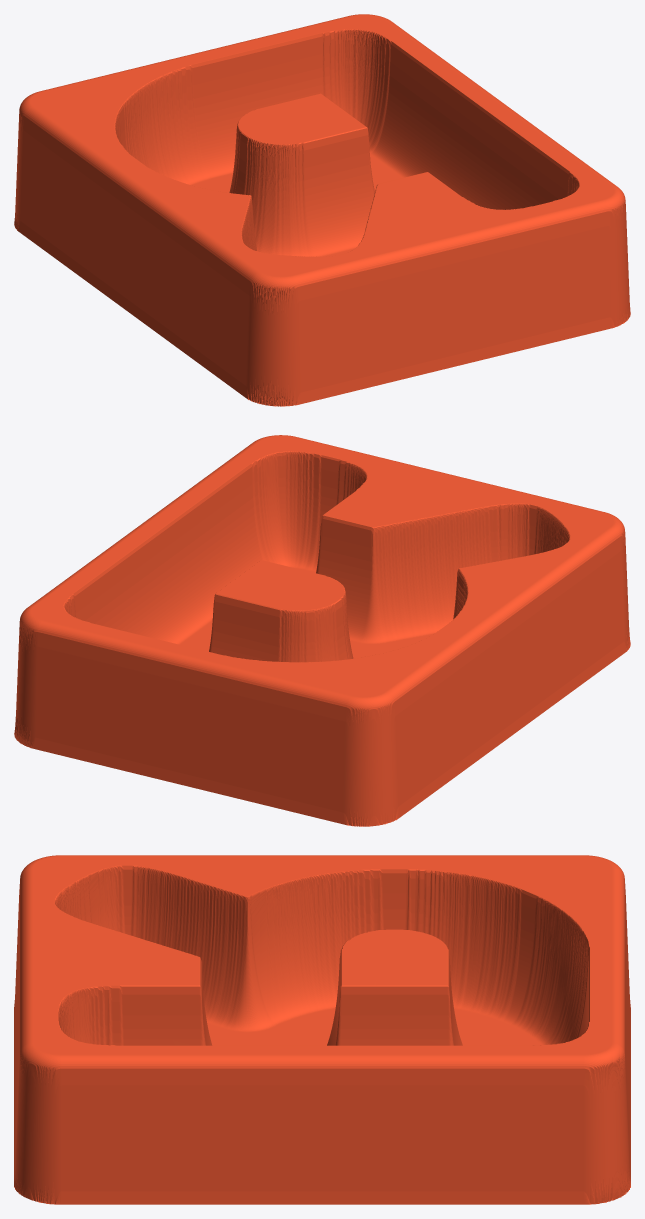
The model's file is mold.glb.
3 renders of one model, top to bottom at view 1: azimuth 30°, elevation 25°; view 2: azimuth 150°, elevation 25°; view 3: azimuth 270°, elevation 25°, orthographic. The views are drawn at different scales.
Parts seen in each view (by area): view 1: geometry_0; view 2: geometry_0; view 3: geometry_0.
Part boxes in pixels (<box>): geometry_0: <box>14,14,630,406</box>; geometry_0: <box>14,435,630,826</box>; geometry_0: <box>14,855,630,1204</box>.
Bounding box in the file's own units: 0.0968 × 0.0299 × 0.1178.
